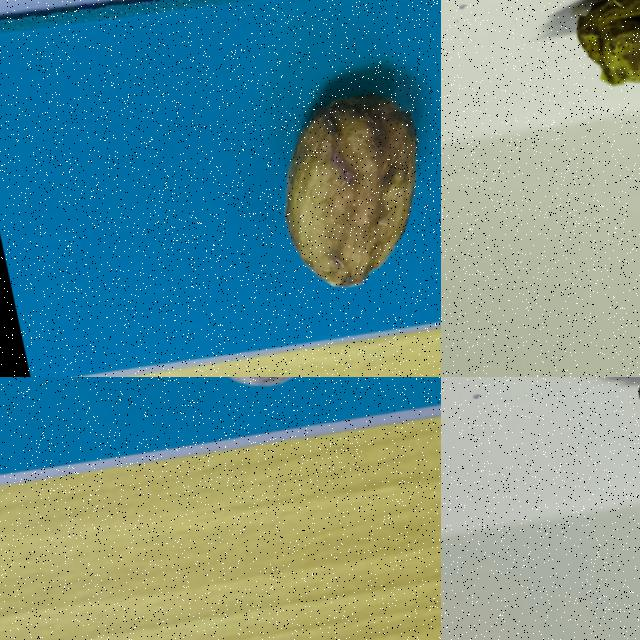Agglomerated_cocoabeans: (61, 377, 416, 445)
Fine_cocoabeans: (185, 22, 440, 318)
